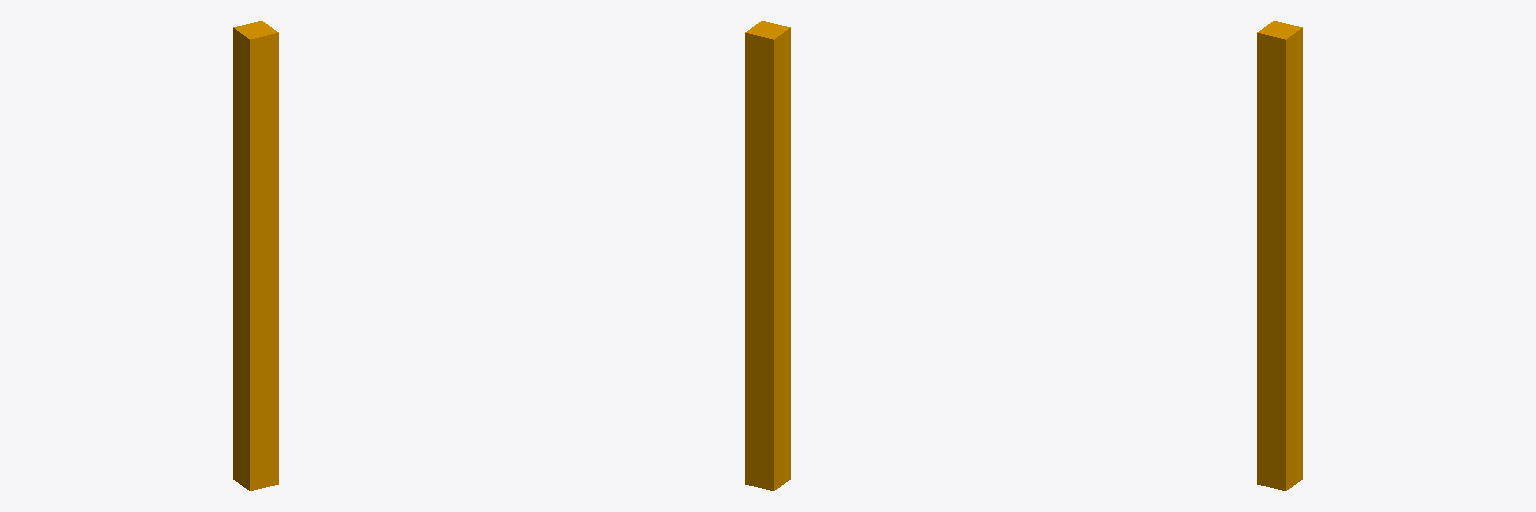
URDF robot description (link):
<?xml version="1.0"?>
<robot name="link">
<link name="link">
    <visual>
        <origin rpy="-1.57079632675 0 0" xyz="0 0 0"/>
        <geometry>
            <mesh filename="cube.obj" scale="0.025 0.375 0.025"/>
        </geometry>
    </visual>
    <collision>
        <origin xyz="0 0 0"/>
        <geometry>
            <box size="0.05 0.05 0.75"/>
        </geometry>
    </collision>
    <inertial>
        <density value="1000.0"/>
    </inertial>
</link>
</robot>

--- What the picture shows (computed from the rendered views, not written in the file) ---
The picture shows the robot from 3 angles, left to right: view 1: azimuth 30°, elevation 25°; view 2: azimuth 150°, elevation 25°; view 3: azimuth 330°, elevation 25°; orthographic projection.
Model link with 1 links and 0 joints (none), rooted at link, posed every joint at zero.
Visible links, largest first — view 1: link; view 2: link; view 3: link.
Link boxes in pixels (x1,y1,x2,y2): link: [233, 21, 278, 490]; link: [745, 21, 790, 490]; link: [1257, 21, 1302, 490].
Size in the robot's own frame: 0.05 by 0.05 by 0.75 metres.
1 mesh visuals loaded from 1 distinct referenced files (1 OBJ).
